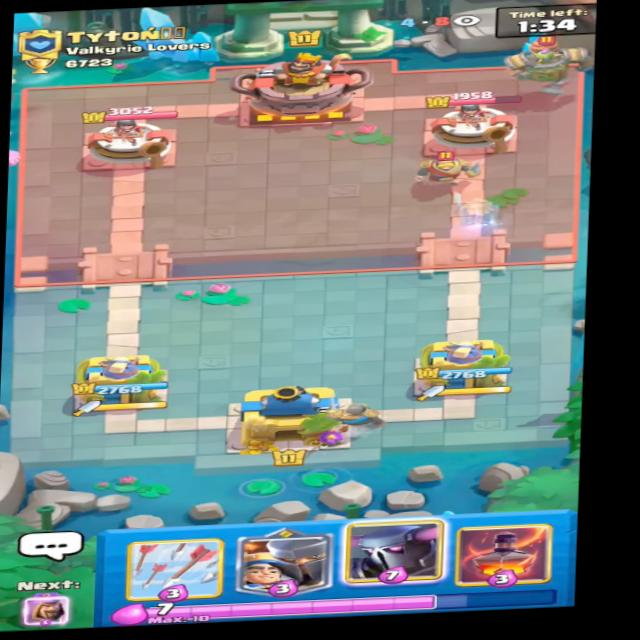goblin-machine: (500, 31, 594, 97)
knight: (413, 147, 492, 187)
